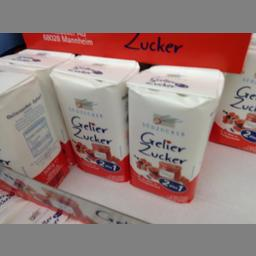sugar: (124, 64, 222, 203), (48, 54, 137, 183), (0, 66, 69, 191)
